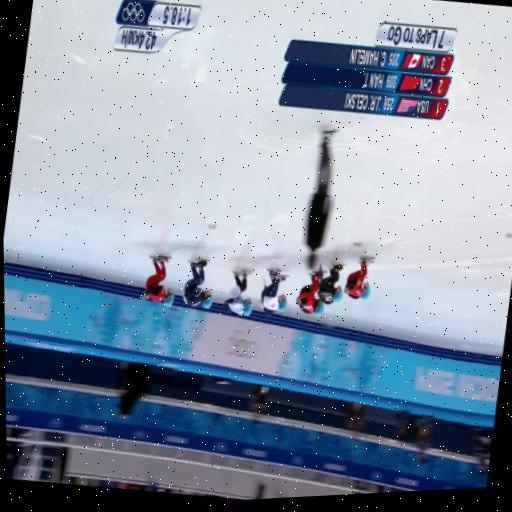Skater: (141, 256, 173, 306), (183, 260, 211, 308), (224, 270, 251, 315), (344, 257, 372, 298), (261, 269, 286, 313), (297, 273, 323, 315), (317, 264, 342, 303)
